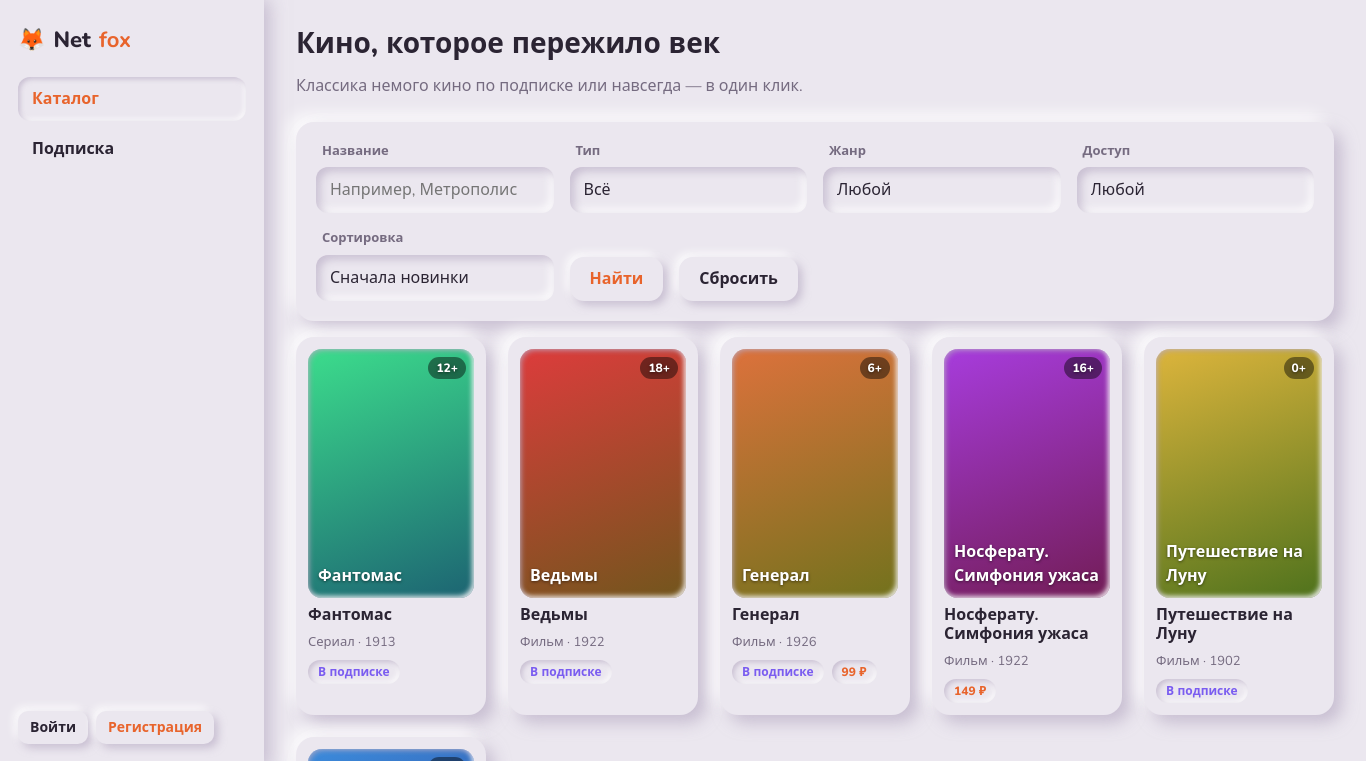
Test case: зритель: от витрины до просмотра › поиск по названию и «ничего не нашлось»
In the search field labelled "Название": (435, 190) left=316, top=167, right=554, bottom=213, type "луну"
Then press Enter
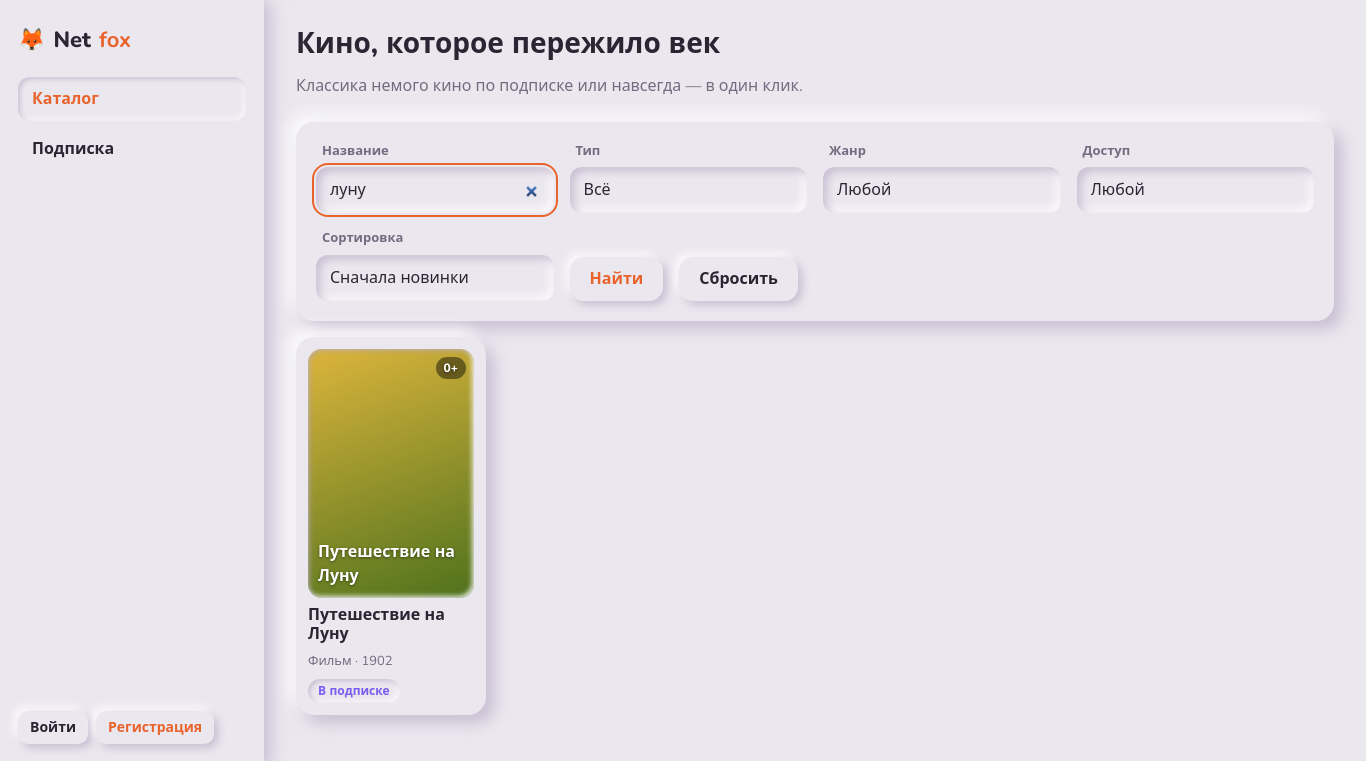
Replace the text in the search field labelled "Название" with "zzz": (435, 190) left=316, top=167, right=554, bottom=213
Then press Enter
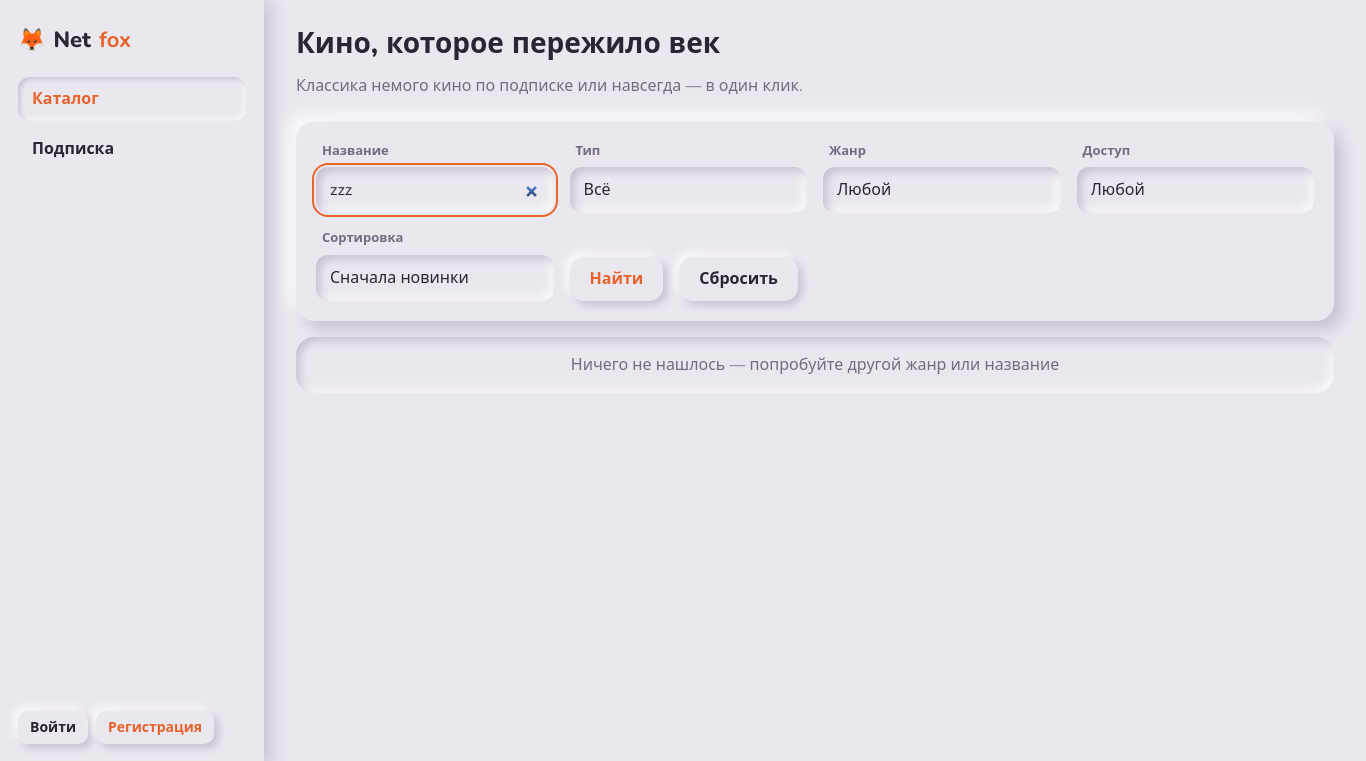
Expected: the text "Ничего не нашлось — попробуйте другой жанр или название" is shown, left=296, top=337, right=1334, bottom=393
